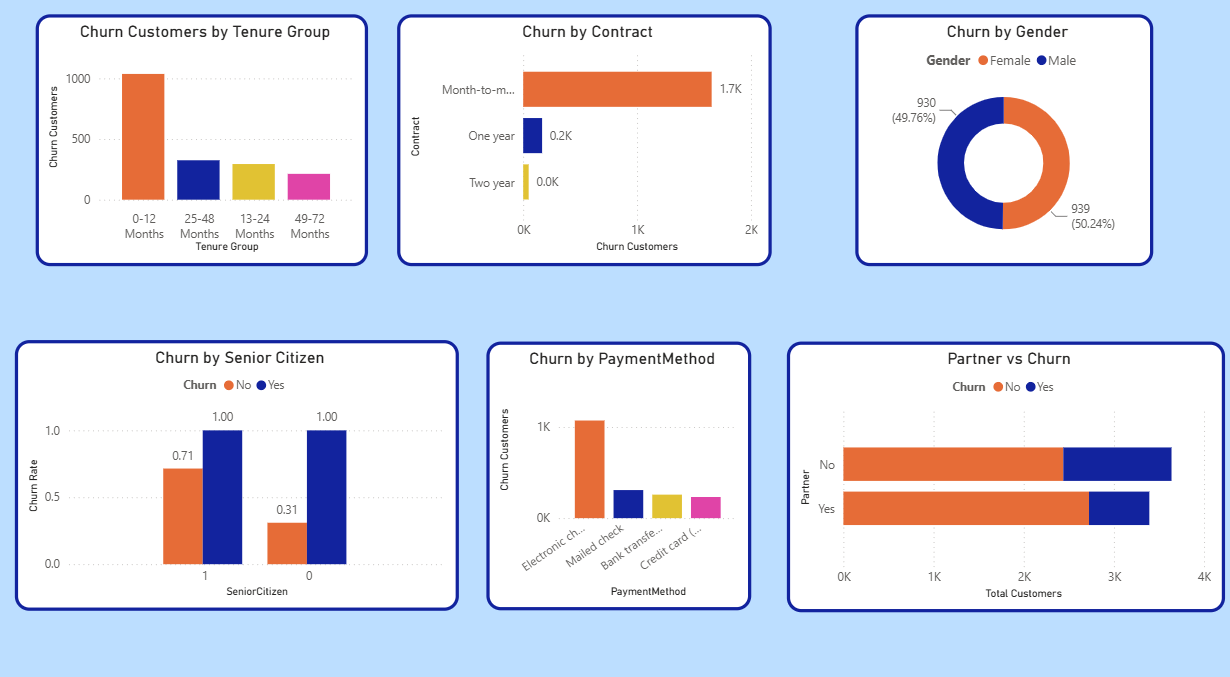

What the dashboard file says about the page in this screenshot:
{"tool":"powerbi","page":{"name":"Customer Churn Analysis","canvas":[1280,720],"ordinal":1},"visuals":[{"type":"donutChart","title":"Churn by Gender","fields":{"Category":["Telco.Gender"],"Y":["Telco.Churn Customers"]},"box":[889.3,23.9,308.4,260.6],"z":0},{"type":"barChart","title":"Partner vs Churn","fields":{"Category":["Telco.Partner"],"Series":["Telco.Churn"],"Y":["Telco.Total Customers"]},"box":[817.7,362.1,453.6,280.5],"z":1000},{"type":"clusteredColumnChart","title":"Churn by Senior Citizen","fields":{"Category":["Telco.SeniorCitizen"],"Y":["Telco.Churn Rate"],"Series":["Telco.Churn"]},"box":[17.9,360.1,459.6,280.5],"z":2000},{"type":"clusteredBarChart","title":"Churn by Contract","fields":{"Category":["Telco.Contract"],"Y":["Telco.Churn Customers"]},"box":[413.8,23.9,387.9,260.6],"z":3000},{"type":"columnChart","fields":{"Category":["Telco.Tenure Group"],"Y":["Telco.Churn Customers"]},"box":[39.8,23.9,344.2,260.6],"z":4000},{"type":"clusteredColumnChart","title":"Churn by PaymentMethod","fields":{"Category":["Telco.PaymentMethod"],"Y":["Telco.Churn Customers"]},"box":[507.3,362.1,274.5,278.5],"z":4001}]}

Visuals, with their boxes in screenshot pixels (x1, y1, x2, y2), scaled from the page's 1280x720 canvas onto the 1230x677 screenshot:
"Churn by Gender" donutChart: select_region(855, 22, 1151, 268)
"Partner vs Churn" barChart: select_region(786, 340, 1222, 604)
"Churn by Senior Citizen" clusteredColumnChart: select_region(17, 339, 459, 602)
"Churn by Contract" clusteredBarChart: select_region(398, 22, 770, 268)
columnChart - Telco.Tenure Group x Telco.Churn Customers: select_region(38, 22, 369, 268)
"Churn by PaymentMethod" clusteredColumnChart: select_region(487, 340, 751, 602)
